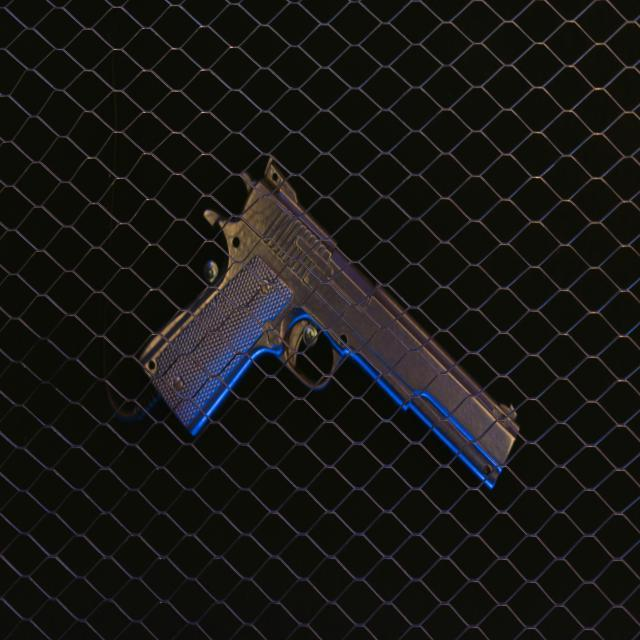Gun: (140, 159, 519, 487)
